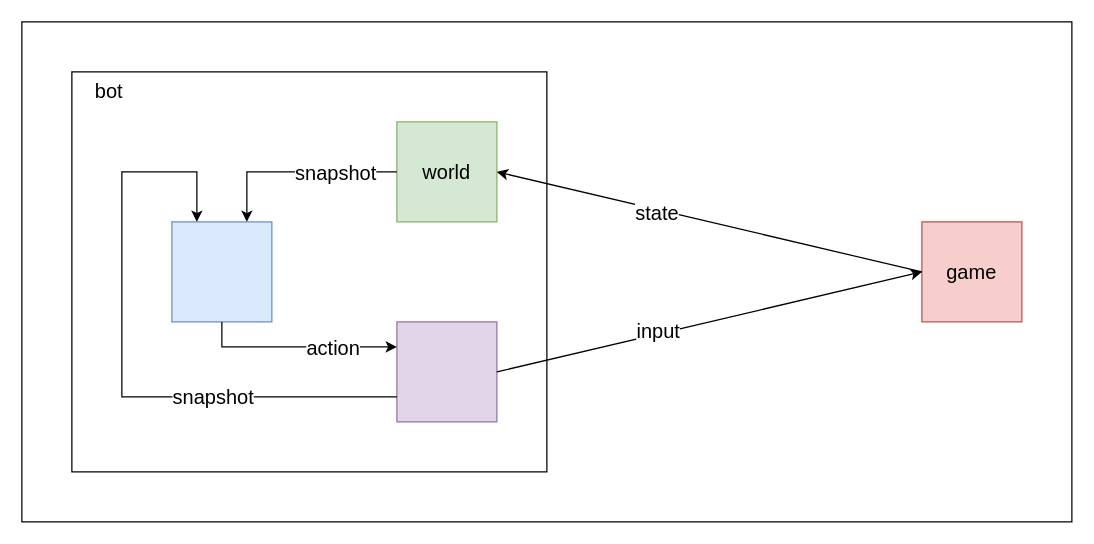
The diagram is 1094 pixels wide and 544 high, and some of its shapes have lost their labels. Each missing label, with the centre of its shape:
executor: the point at 446,371
policy: the point at 221,271
